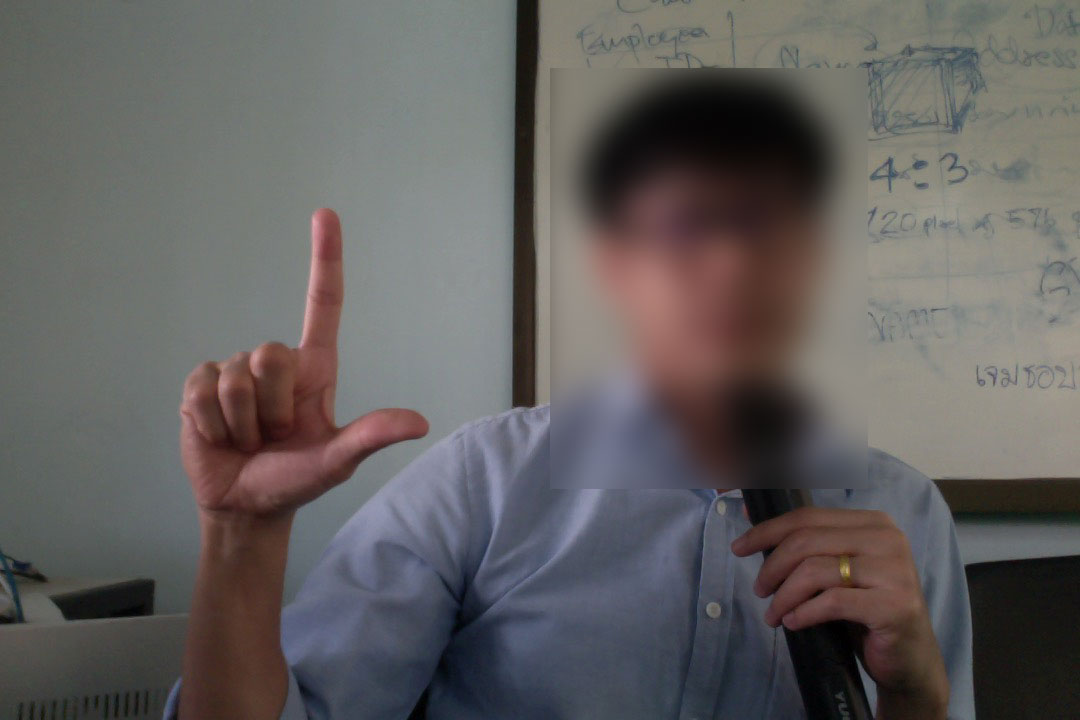lor: (160, 180, 439, 575)
